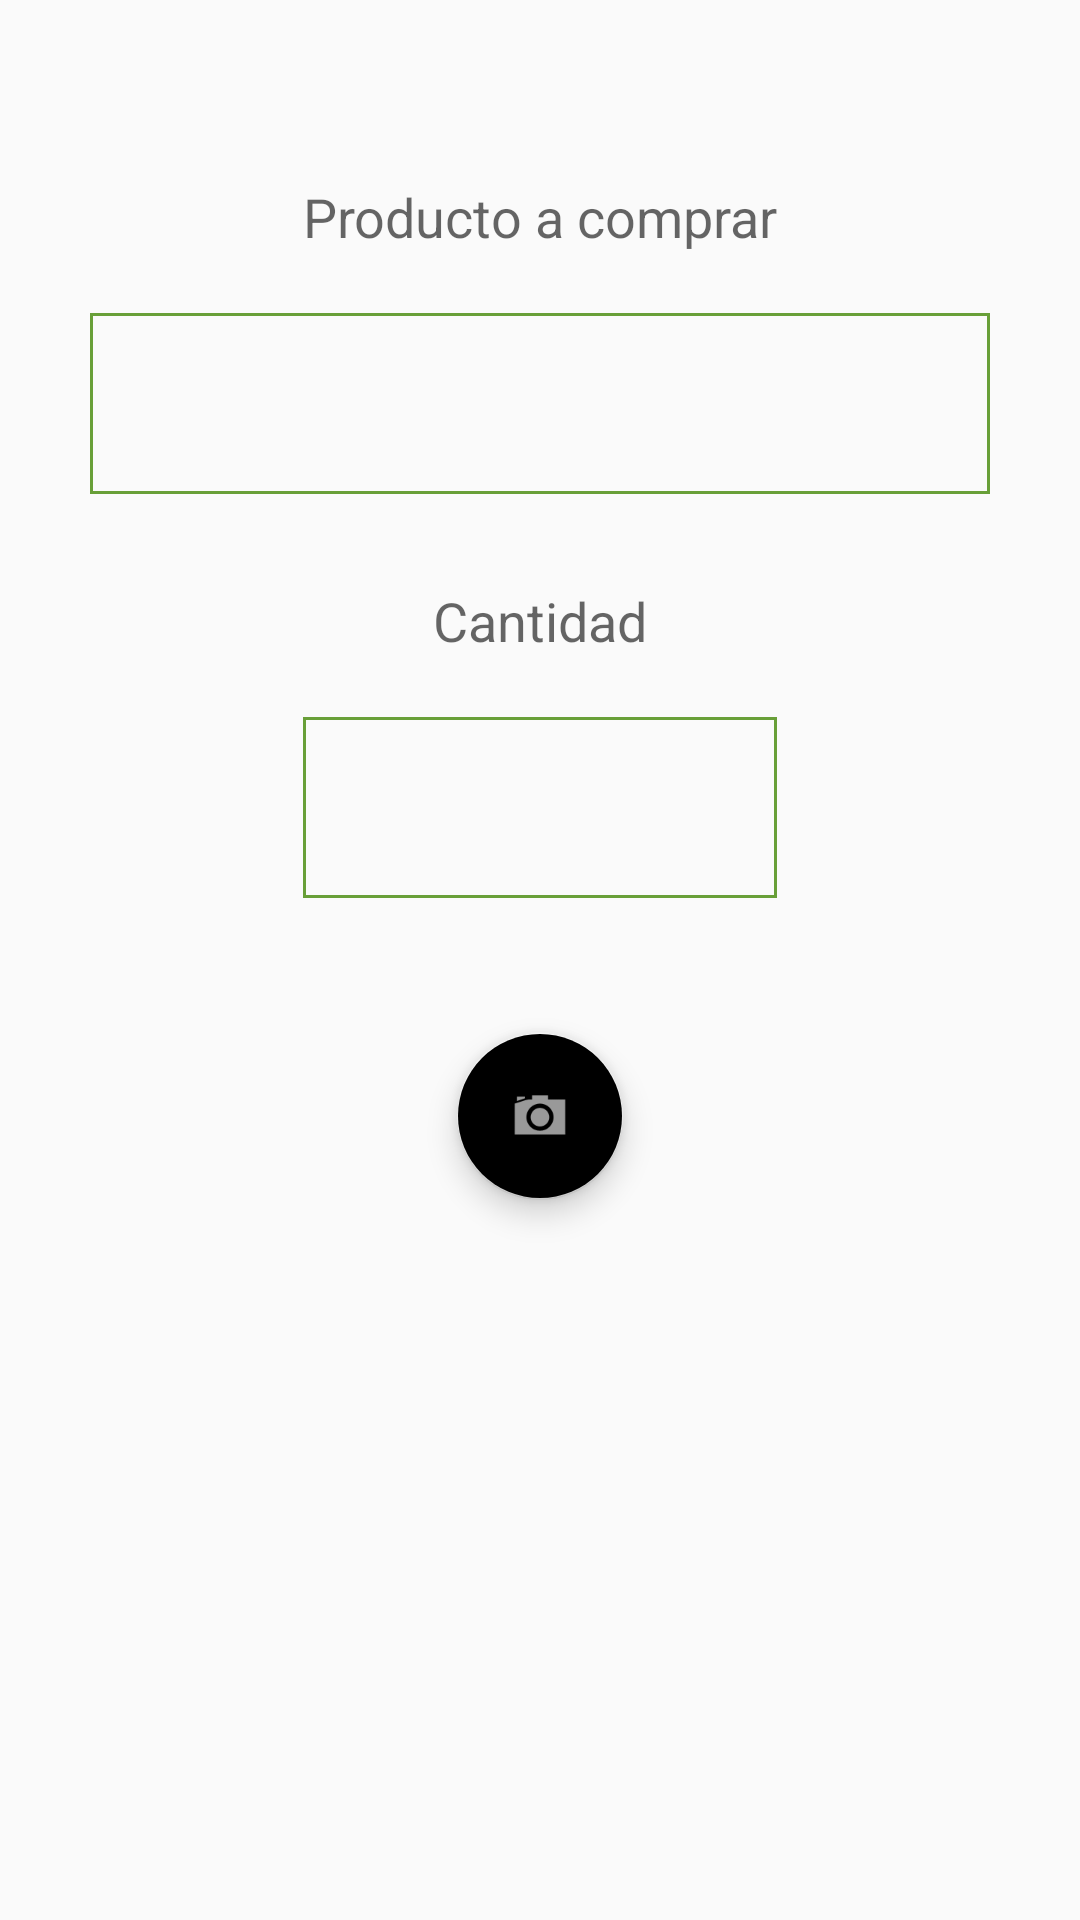

Locate icon controls on the screen. Image size 1080x1920, boxes as rect(x1, y1, x2, y2).
camera: rect(456, 1034, 624, 1200)
